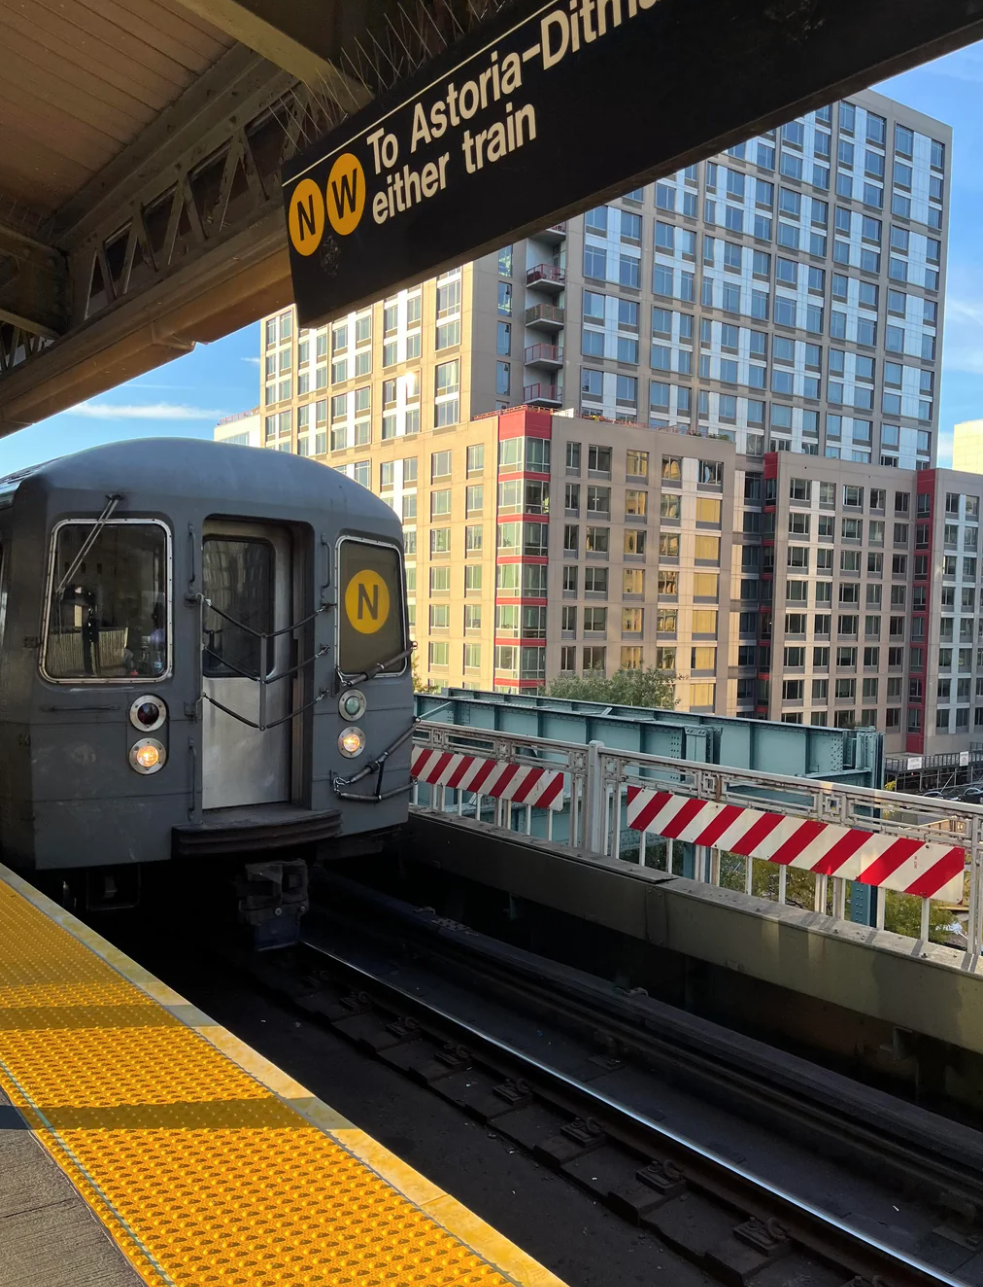train: (1, 435, 417, 863)
